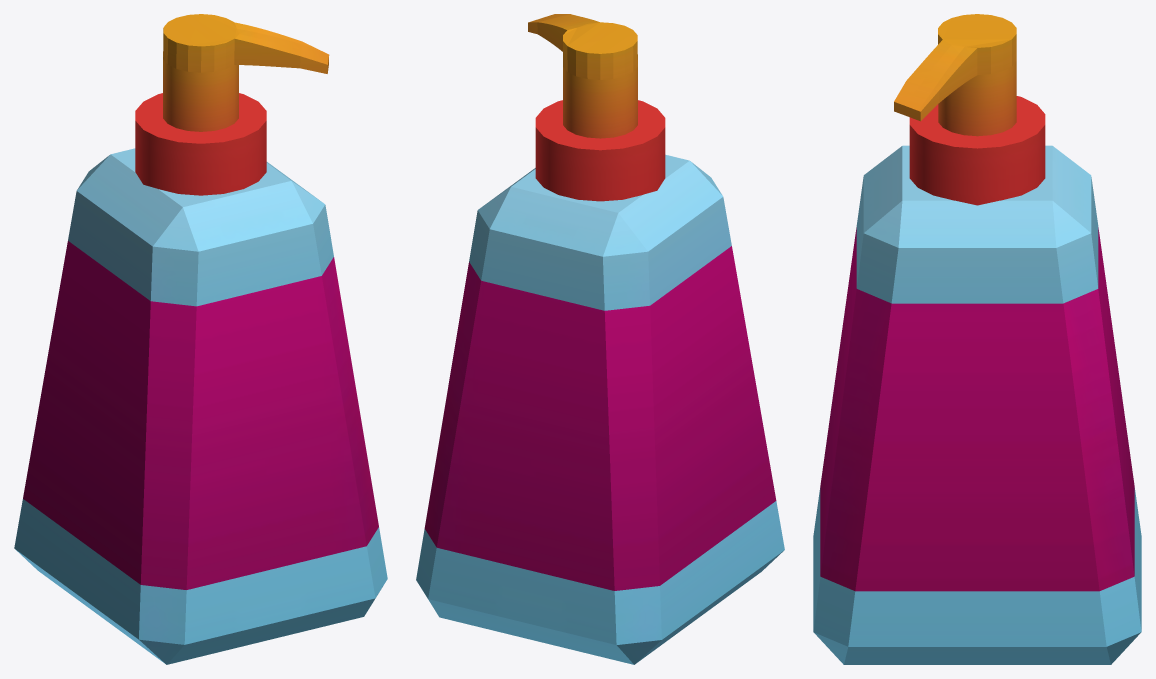
The model's file is Soap.FBX.
3 renders of one model, left to right at view 1: azimuth 30°, elevation 25°; view 2: azimuth 150°, elevation 25°; view 3: azimuth 270°, elevation 25°, orthographic. The views are drawn at different scales.
Visible parts, largest first — view 1: Box001; view 2: Box001; view 3: Box001.
Part boxes in pixels (<box>): Box001: <box>14,14,387,664</box>; Box001: <box>416,14,784,664</box>; Box001: <box>813,14,1141,664</box>.
Bounding box in the file's own units: 21.37 × 46.24 × 23.53.
Materials: 1 (1 with a texture image).
